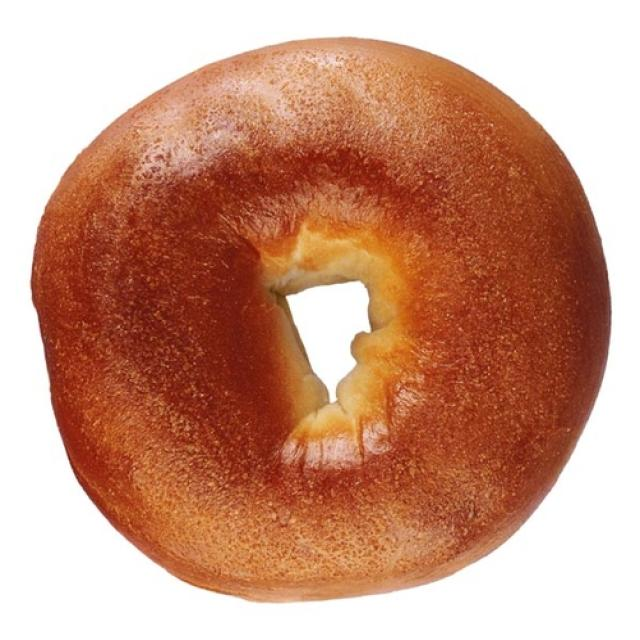面包点心: (18, 15, 623, 599)
